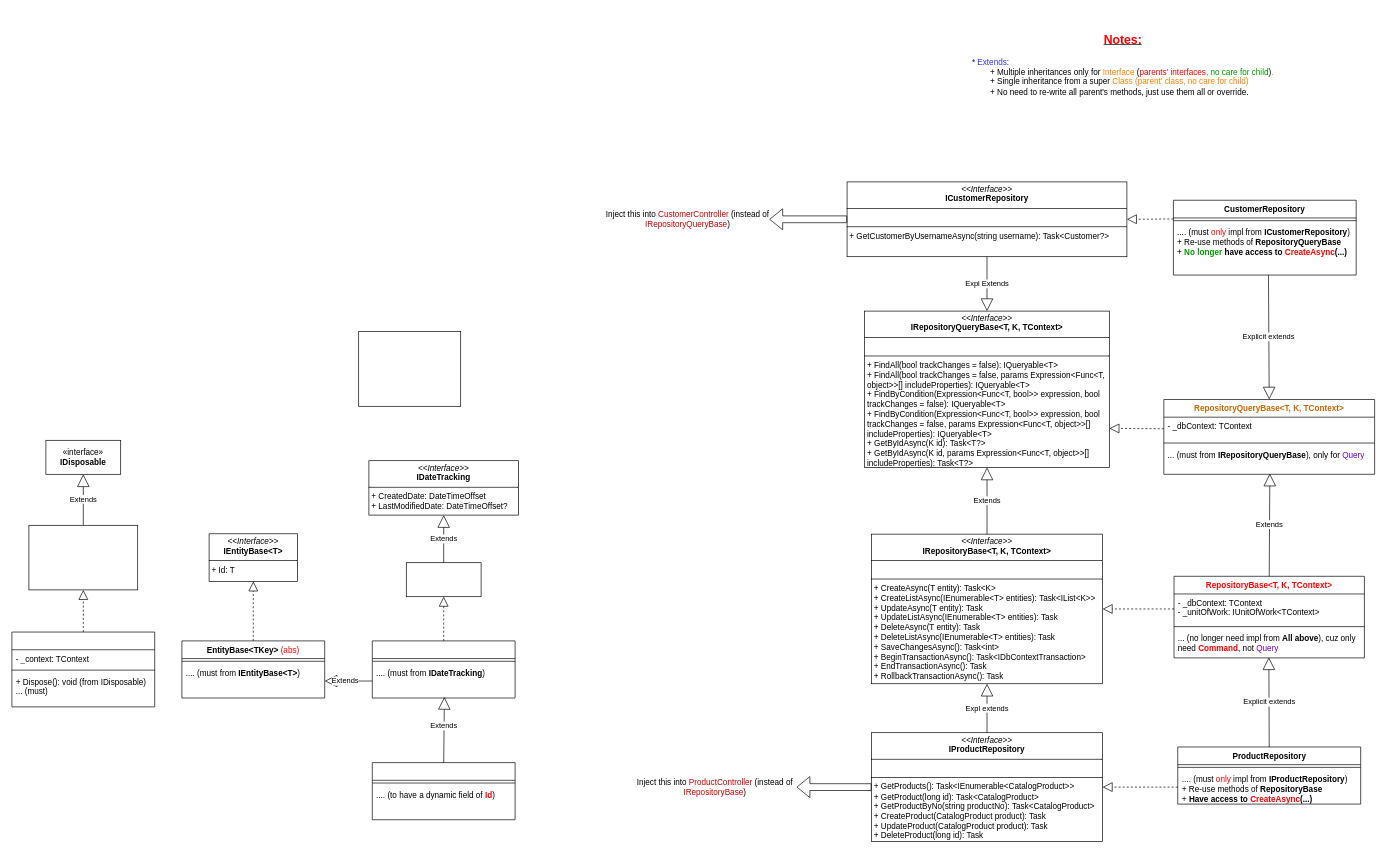
Some shapes in this 1387 by 853 pixel diagram are drawn without their labels. The box of each missing label's shape, as (x1, y1, x2, y2) in pixels:
<<Interface>> IUnitOfWork<TContext> + CommitAsync(): Task<int>: (28, 525, 138, 590)
<<Interface>> IUserTracking + CreatedBy(): string + LastModifiedBy: string: (358, 331, 461, 406)
Entities class: (372, 762, 515, 820)
EntityAuditBase<T> (abs): (372, 640, 515, 698)
UnitOfWork<TContext>: (11, 631, 155, 707)
«interface» IAuditable: (406, 562, 481, 597)
